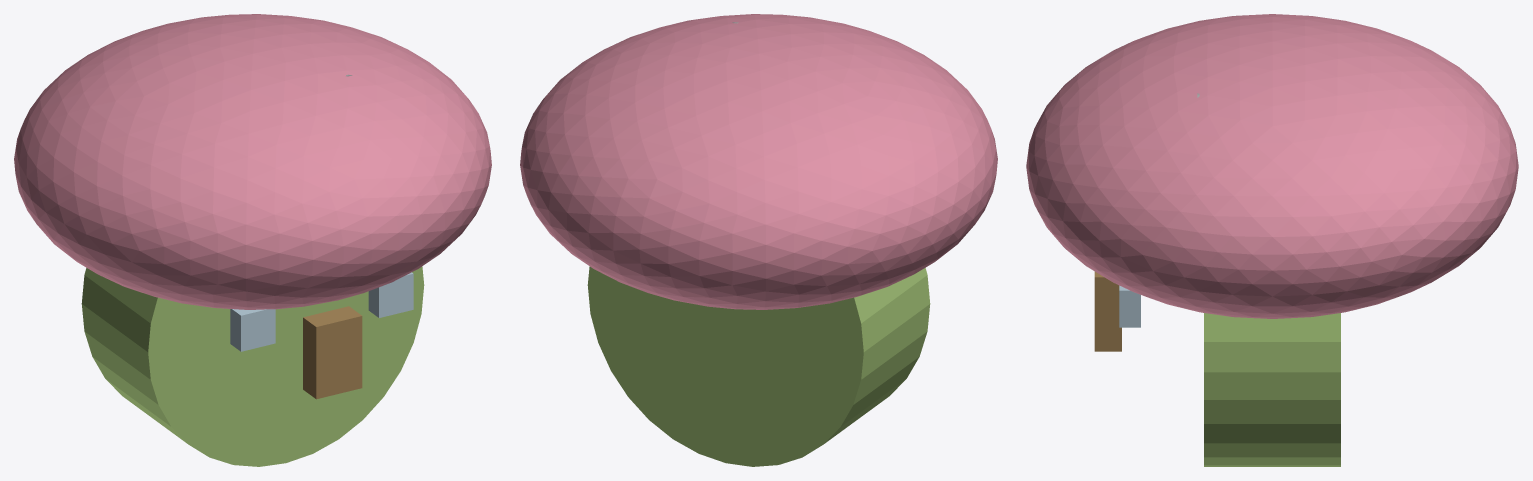
File: fairy_house.glb
3 views of the same model, side by side, from view 1: azimuth 30°, elevation 25°; view 2: azimuth 150°, elevation 25°; view 3: azimuth 270°, elevation 25° (orthographic). The views are drawn at different scales.
Visible parts, largest first — view 1: world; view 2: world; view 3: world.
Boxes of the visible parts, x1,y1,x2,y2 form: world: (14, 14, 491, 466); world: (520, 14, 997, 466); world: (1026, 14, 1518, 466).
Size of the model in its own units: 1.8 by 1.6 by 1.8.
